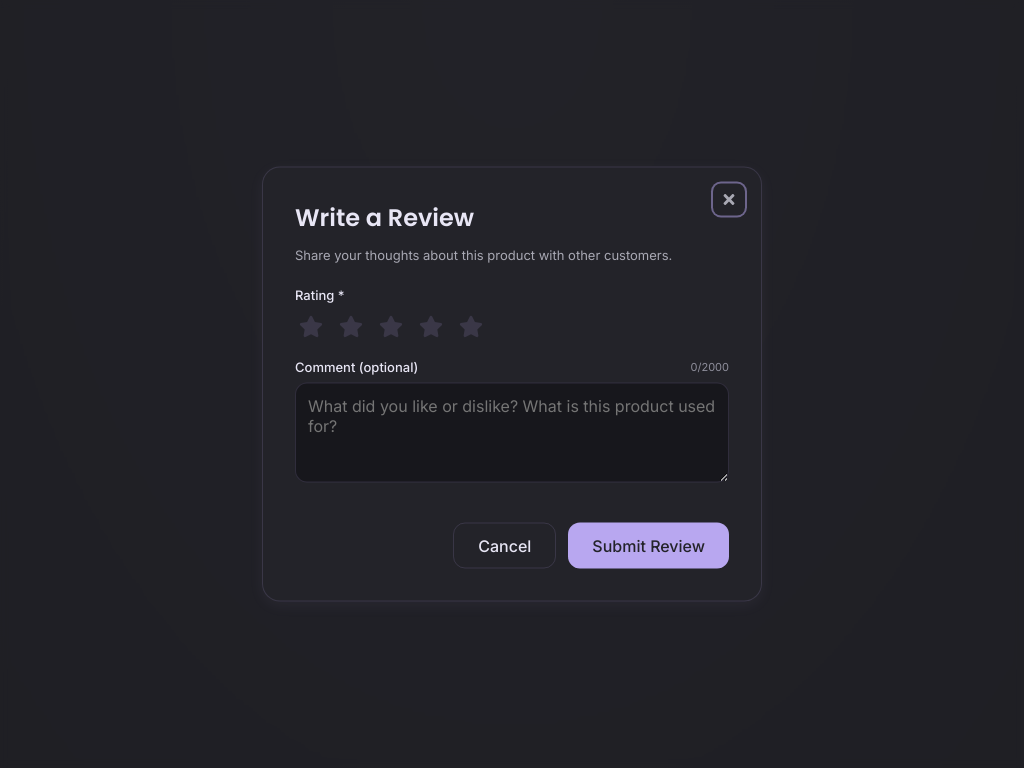
Test: ReviewModal › clicking a star sets aria-checked and clears a prior rating error
Expected: the heading "Write a Review" is shown, [295,200,474,234]
Click the button "Submit Review": [649, 546] box [568,522,729,568]
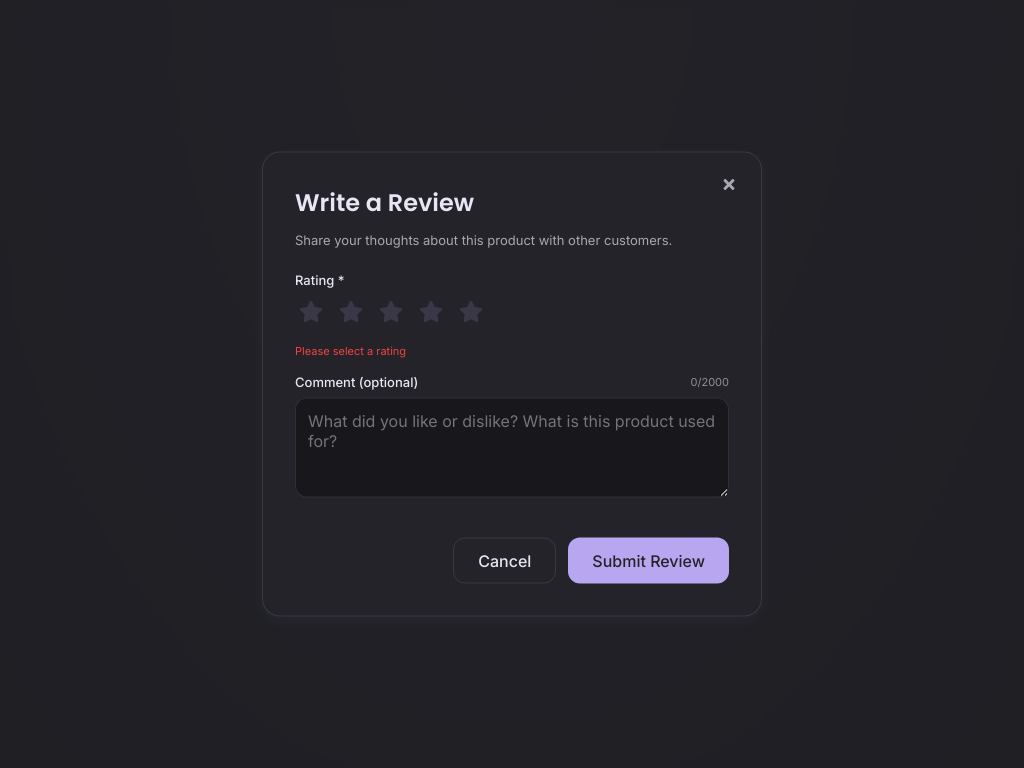
Expected: the message reads "Please select a rating", [295,344,406,358]
Click the radio button named "Rate 4 stars": [431, 312] box [415,296,447,328]
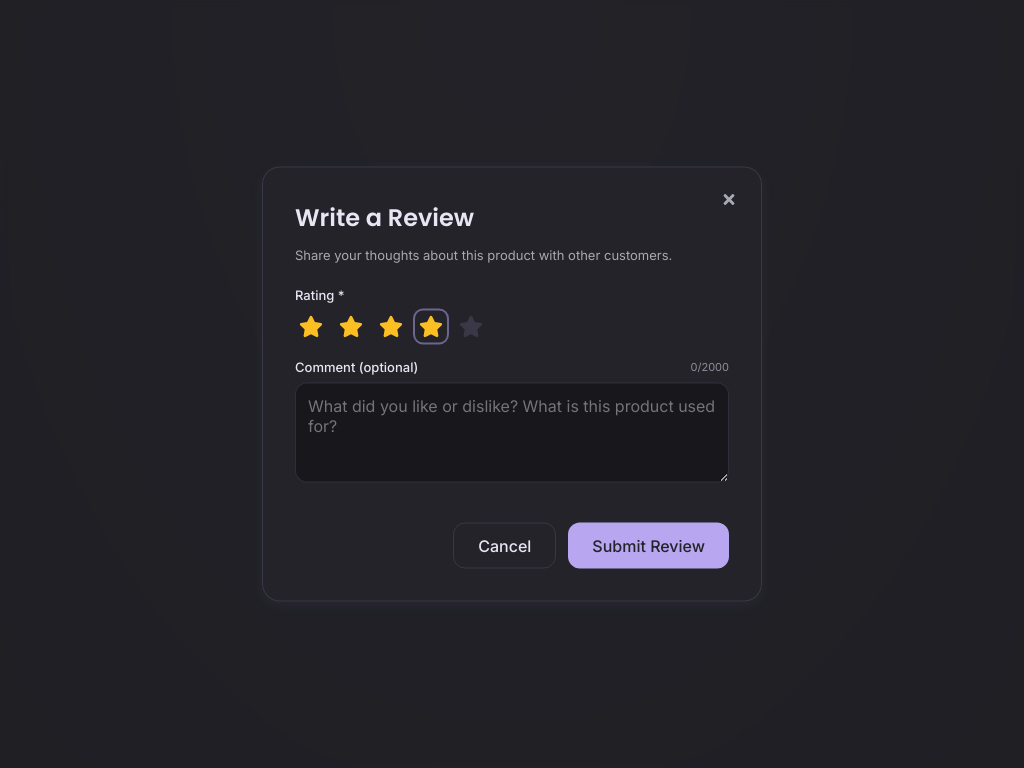
Expected: the text "Please select a rating" is gone
